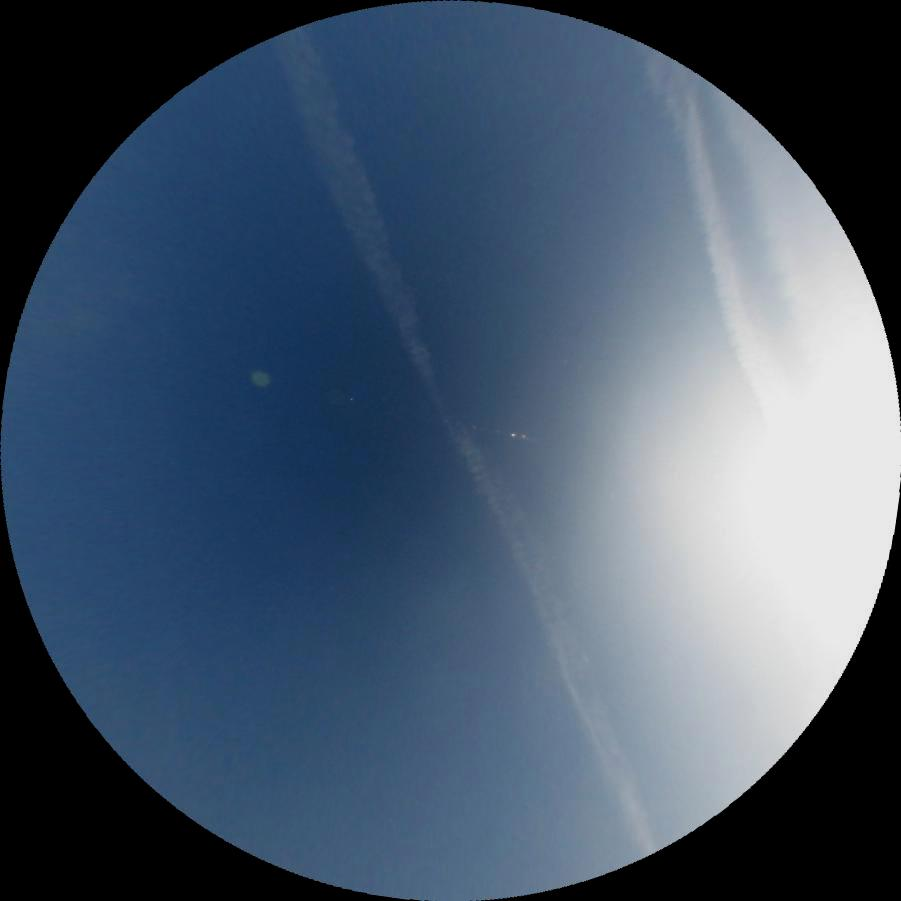contrail veryold: (263, 23, 668, 864), (642, 35, 799, 431), (719, 68, 899, 407)
sun: (722, 414, 901, 626)
